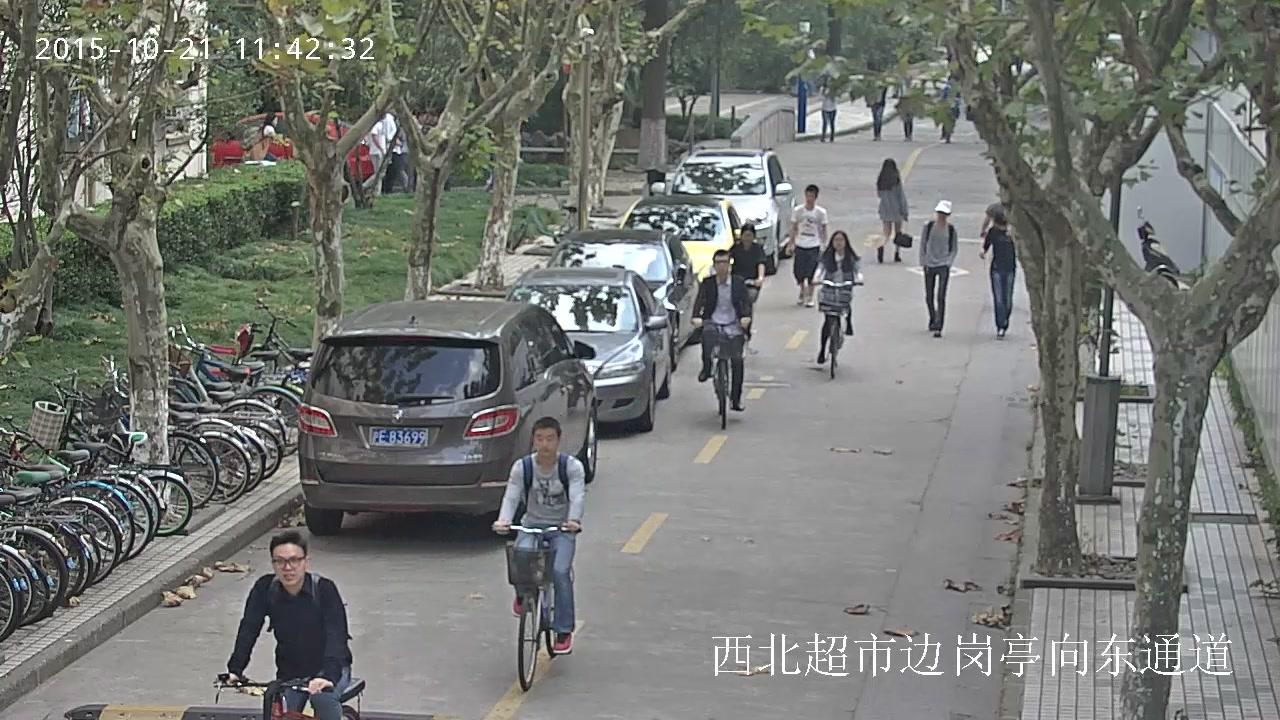person: (212, 528, 364, 720), (489, 415, 586, 691), (225, 530, 353, 720), (492, 416, 585, 654), (689, 249, 752, 429), (690, 250, 752, 410), (811, 229, 863, 378), (812, 230, 862, 364), (919, 199, 957, 338), (785, 184, 827, 307), (978, 212, 1017, 338), (725, 223, 767, 339), (876, 158, 911, 264), (726, 223, 766, 303), (359, 112, 389, 199), (238, 111, 287, 161), (936, 75, 960, 143), (936, 76, 960, 139), (818, 79, 836, 142), (870, 86, 887, 140), (899, 94, 914, 141)
